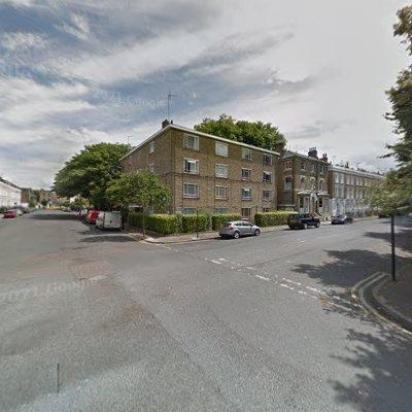stationary-car-onstreet: (216, 219, 262, 240), (288, 213, 320, 229), (330, 213, 354, 225), (4, 208, 16, 220)
stationary-light-truck-onstreet: (94, 209, 123, 230), (85, 208, 100, 226)
